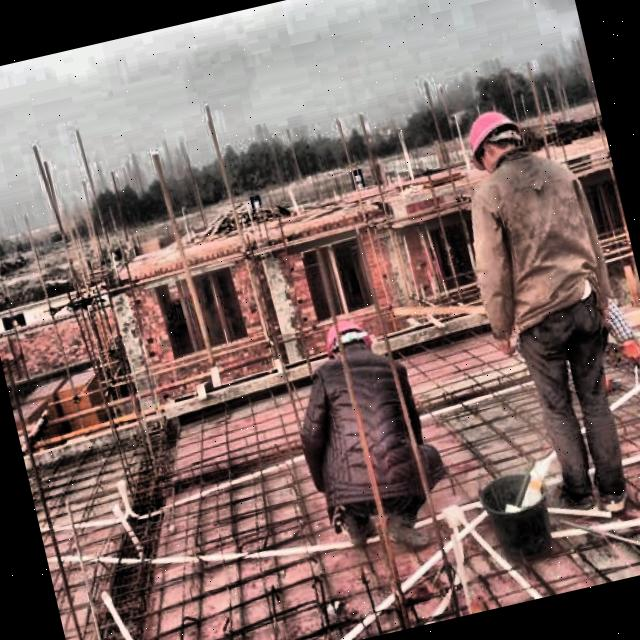helmet: (450, 94, 538, 188), (314, 307, 380, 372)
